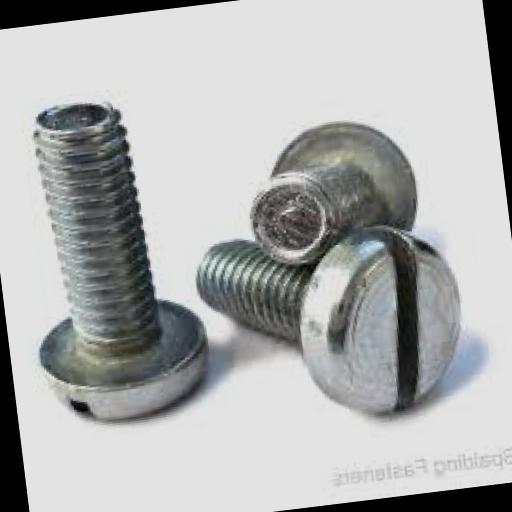Slotted: (289, 219, 476, 428)
